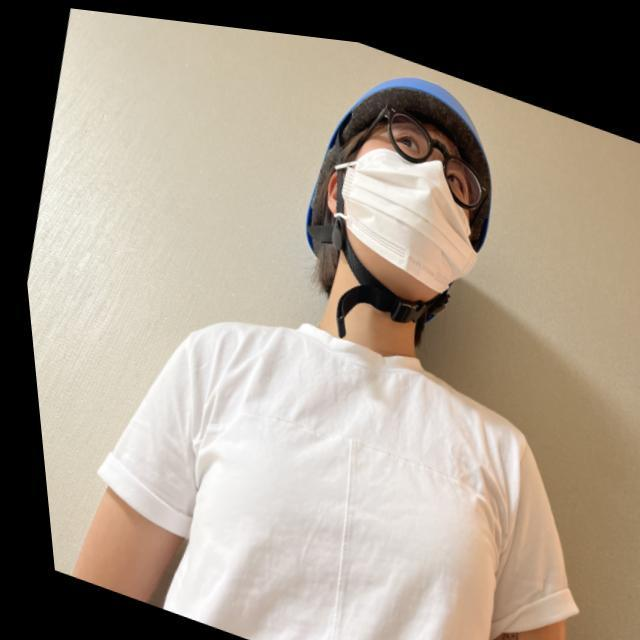Helmet: (302, 76, 496, 340)
